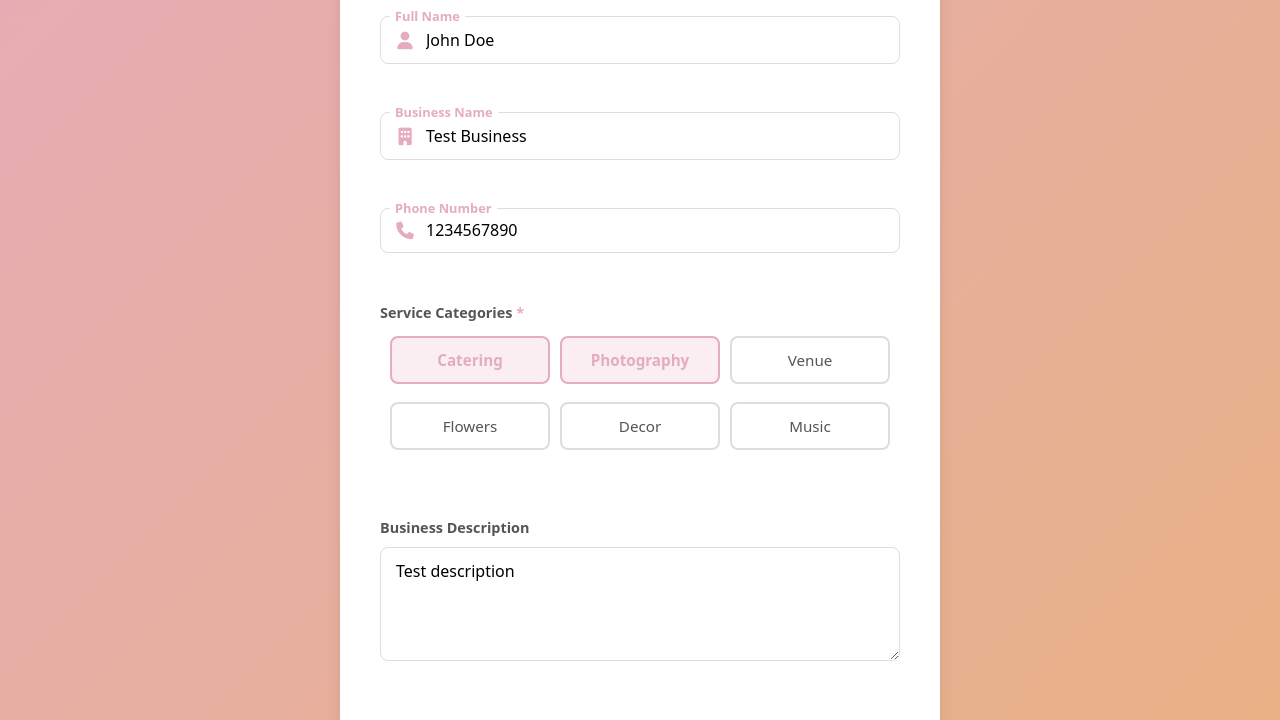
EditVendorProfile Testing › shows warning for invalid phone number
This screenshot has width=1280, height=720.
(page scrolled)
Replace the text in the field showing "1234567890" next to "Phone Number" with "0123" at (640, 230), box [380,208,900,253]
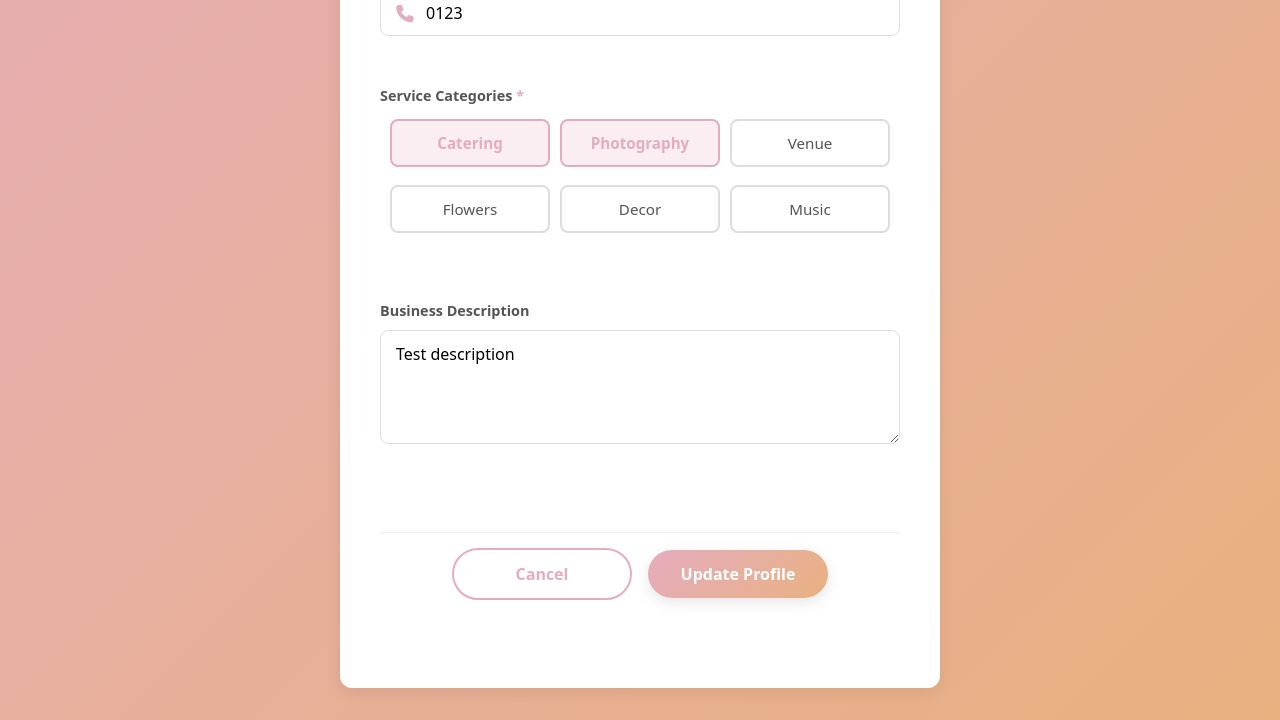
Click the button "Update Profile" at (738, 574), box [648,550,828,598]
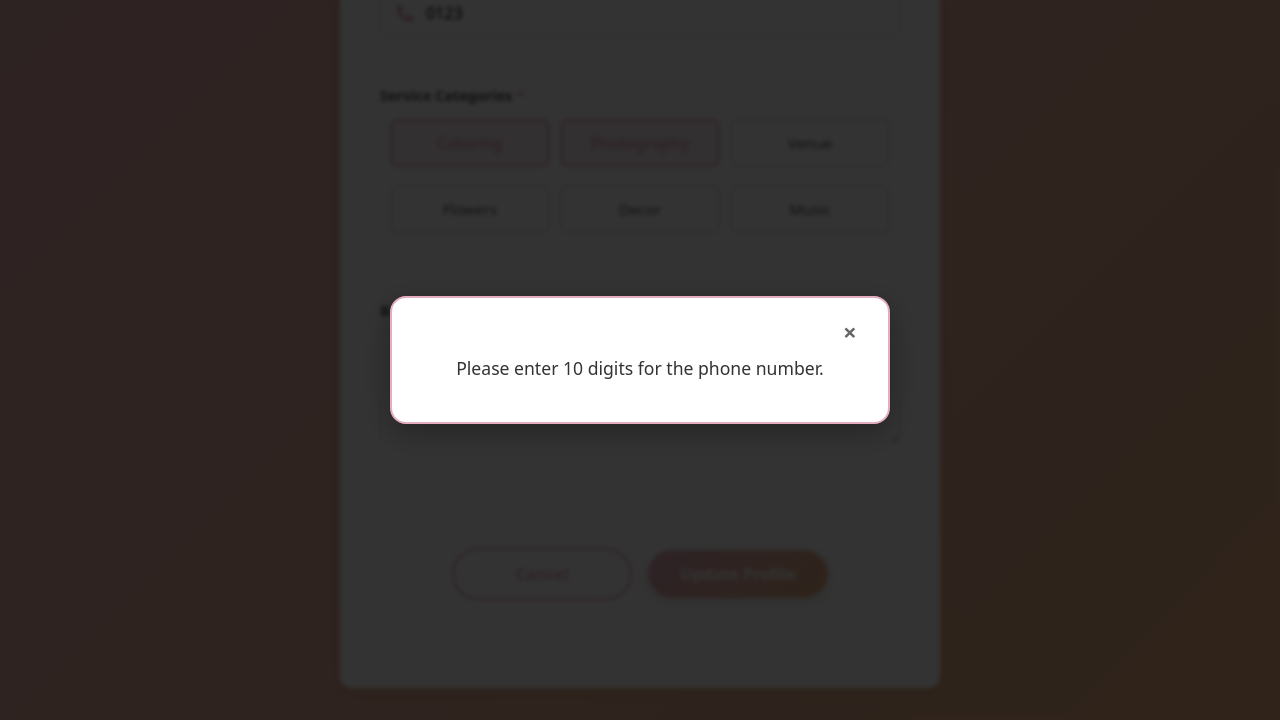
Expected: the text "Please enter 10 digits for the phone number." is shown, [440,354,840,382]
